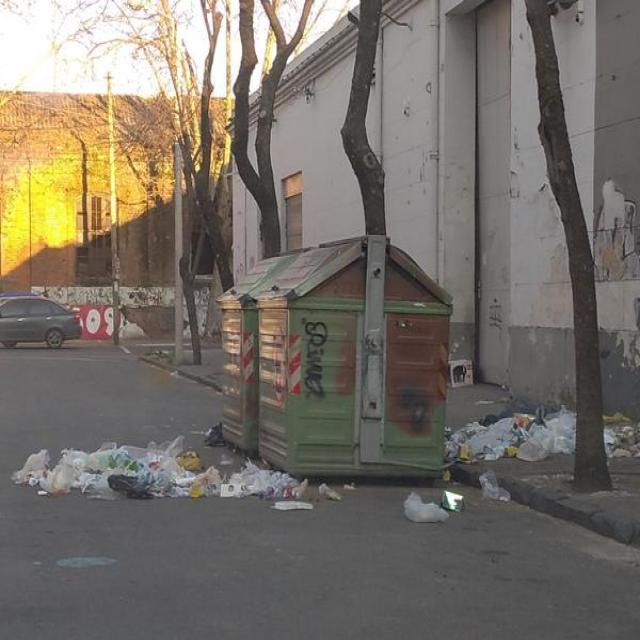garbage: (14, 428, 320, 518), (439, 394, 580, 466), (393, 488, 479, 536), (594, 410, 640, 470), (476, 464, 514, 514)
